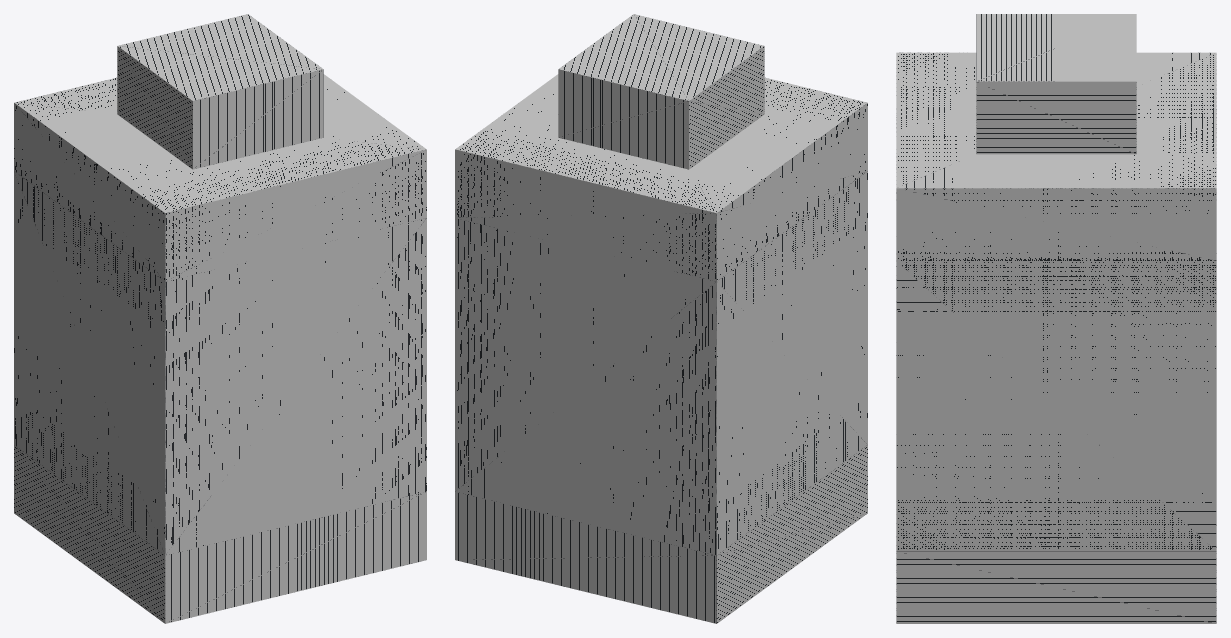
The model's file is lantern.fbx.
3 renders of one model, left to right at view 1: azimuth 30°, elevation 25°; view 2: azimuth 150°, elevation 25°; view 3: azimuth 270°, elevation 25°, orthographic. The views are drawn at different scales.
Visible parts, largest first — view 1: generated; view 2: generated; view 3: generated.
Part boxes in pixels (x1,y1,x2,y2): generated: [14, 14, 426, 623]; generated: [455, 14, 867, 623]; generated: [896, 14, 1216, 623].
Bounding box in the file's own units: 40 × 70 × 40.
Materials: 1 (1 with a texture image).
